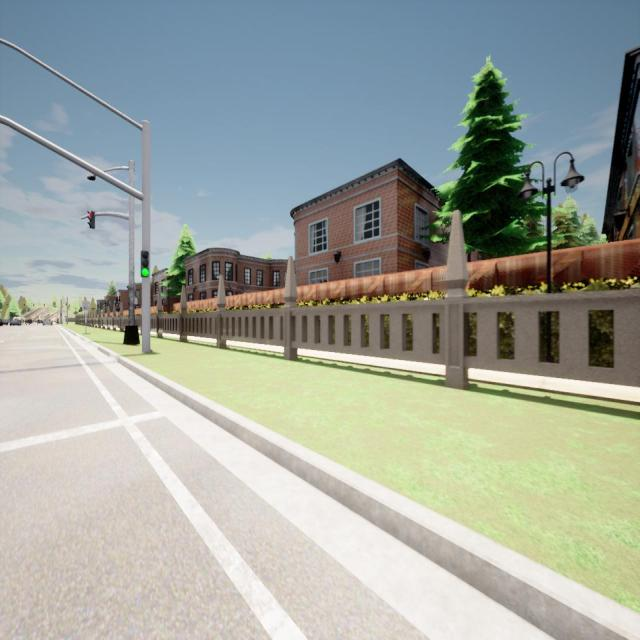Pedestrian: (57, 317, 59, 325)
Traffic_Signs: (82, 300, 90, 311)
Vehicle: (43, 318, 52, 326), (0, 318, 8, 327), (10, 319, 20, 326), (24, 319, 33, 325), (13, 316, 21, 320), (37, 318, 42, 324)
traffic_light: (141, 250, 149, 278), (87, 210, 95, 229), (65, 303, 67, 306), (44, 303, 45, 307), (24, 303, 25, 306), (60, 313, 61, 316), (33, 304, 34, 306)
